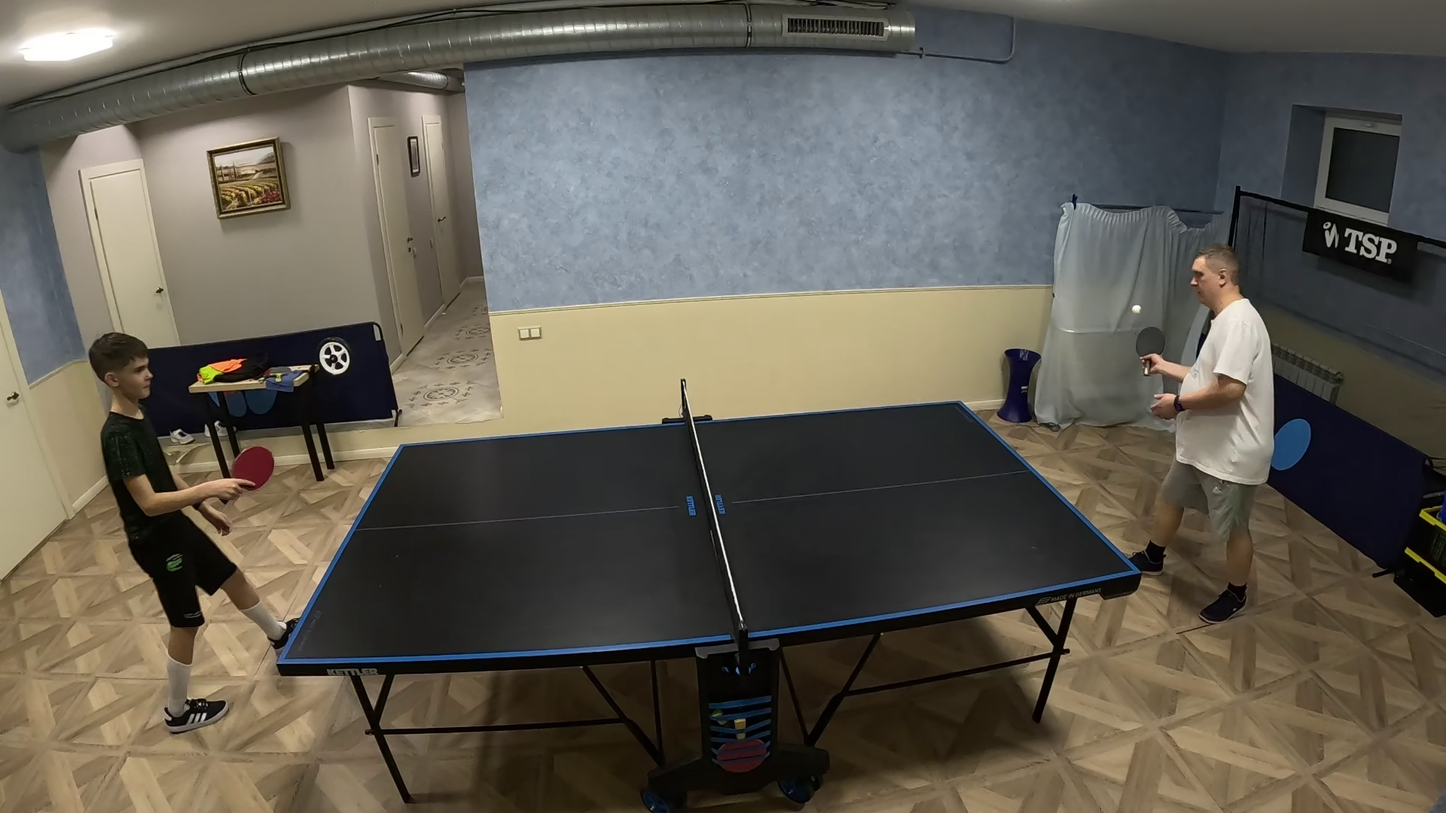Ball: (1131, 304, 1141, 313)
